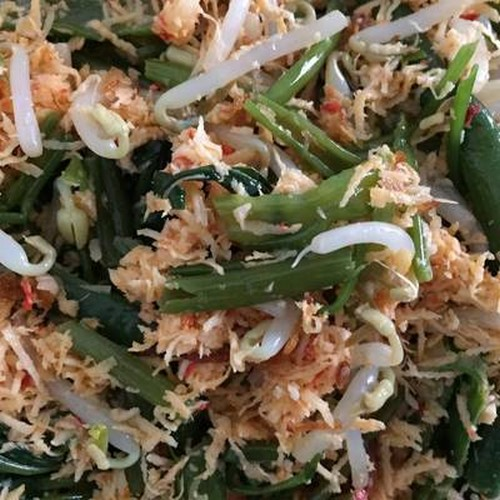jukut urap: (9, 17, 479, 480)
